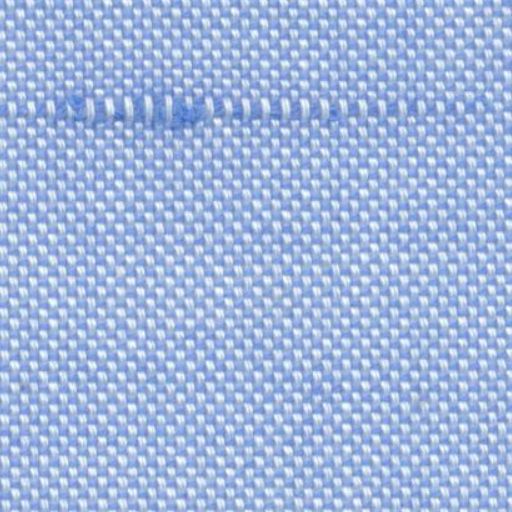DaiSha: (6, 83, 438, 138)
